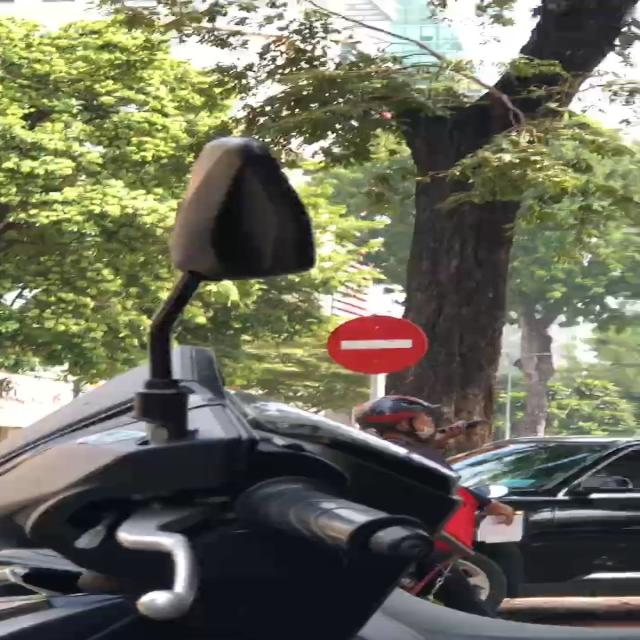Bien bao cam di nguoc chieu: (320, 313, 440, 382)
